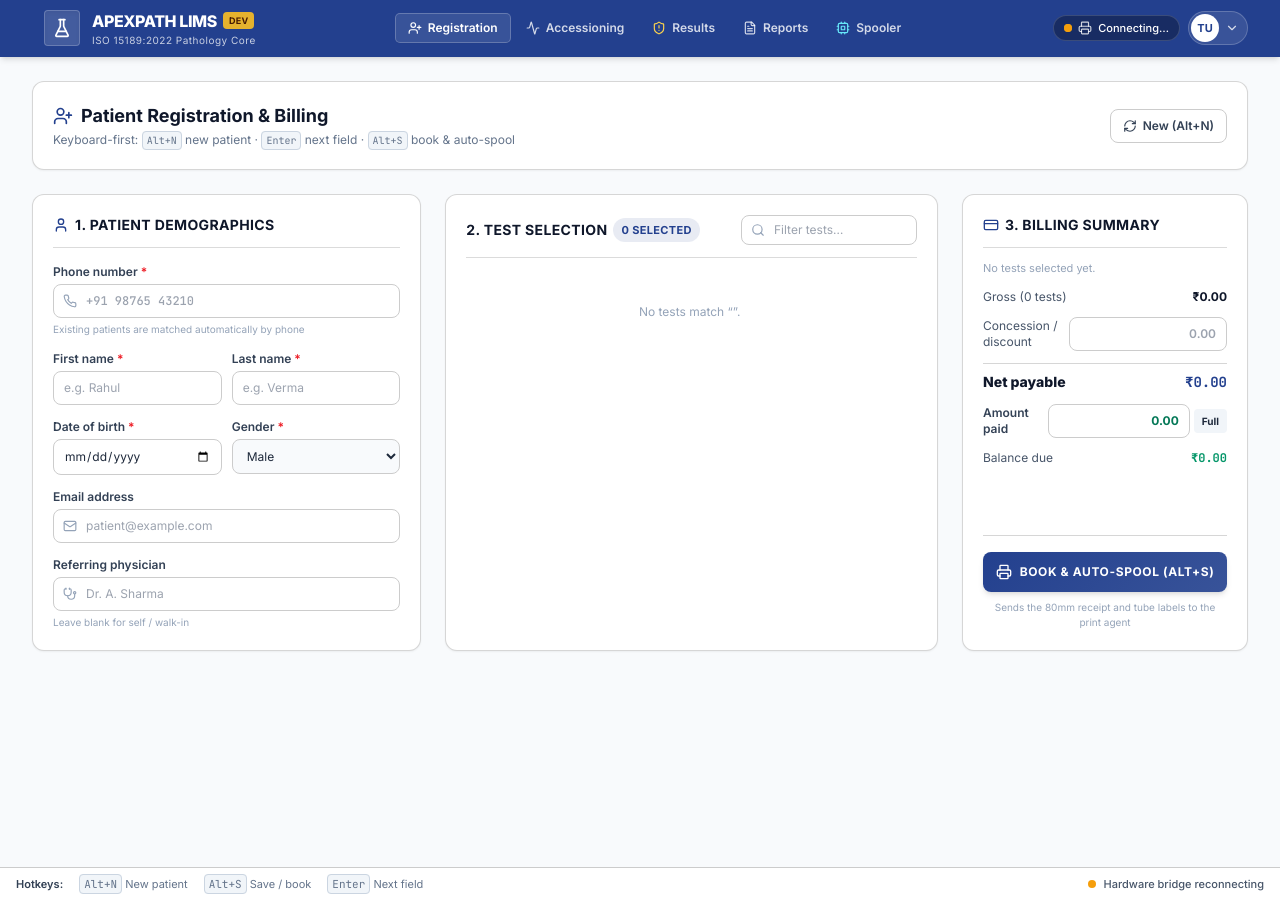
routing and access control › lands the next user on their own workspace after a sign-out (shared workstation)
Click the button with aria-label "Account menu".
click(1218, 28)  # box [1188,11,1248,45]
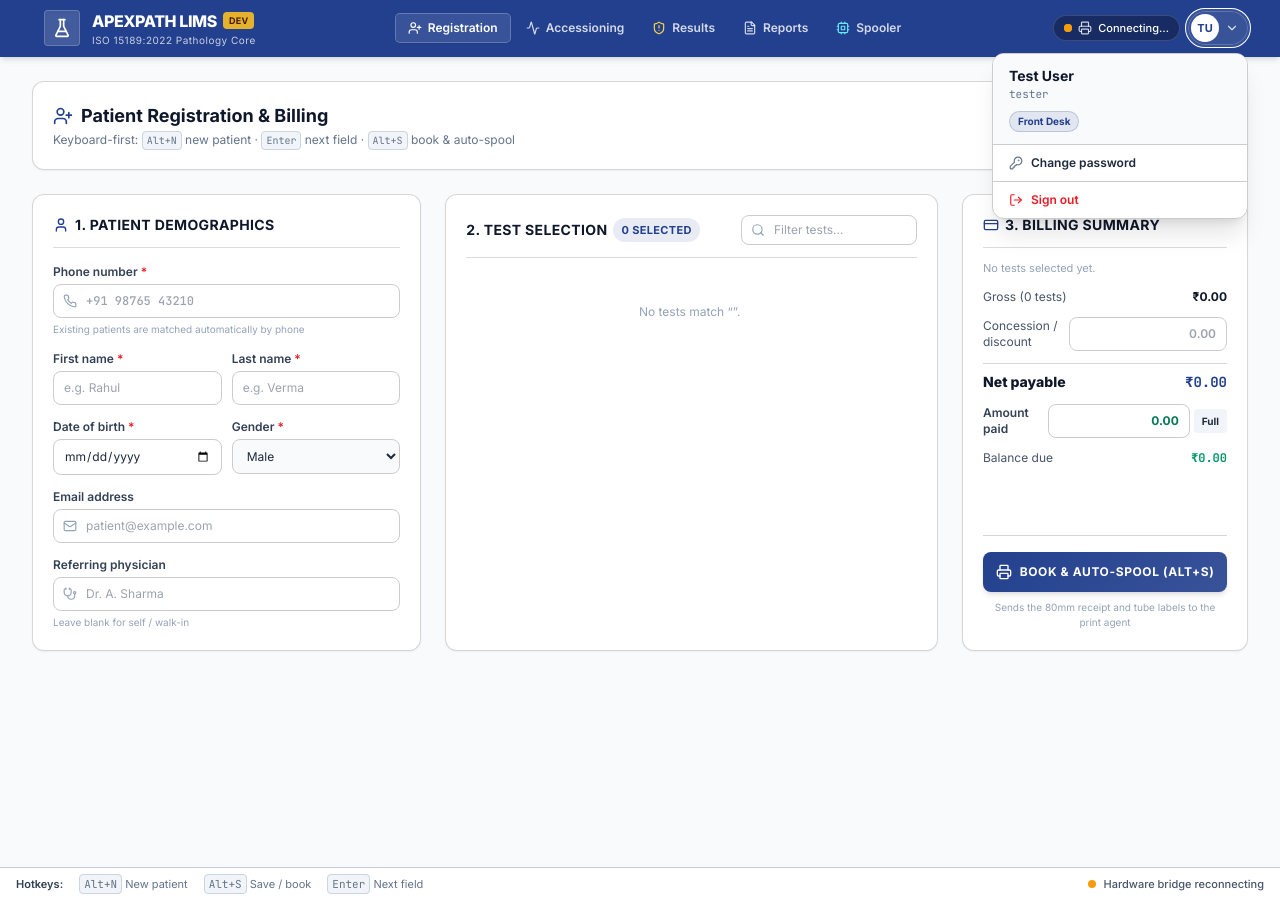
Click the menu item "Sign out".
click(1120, 199)  # box [993,180,1247,218]
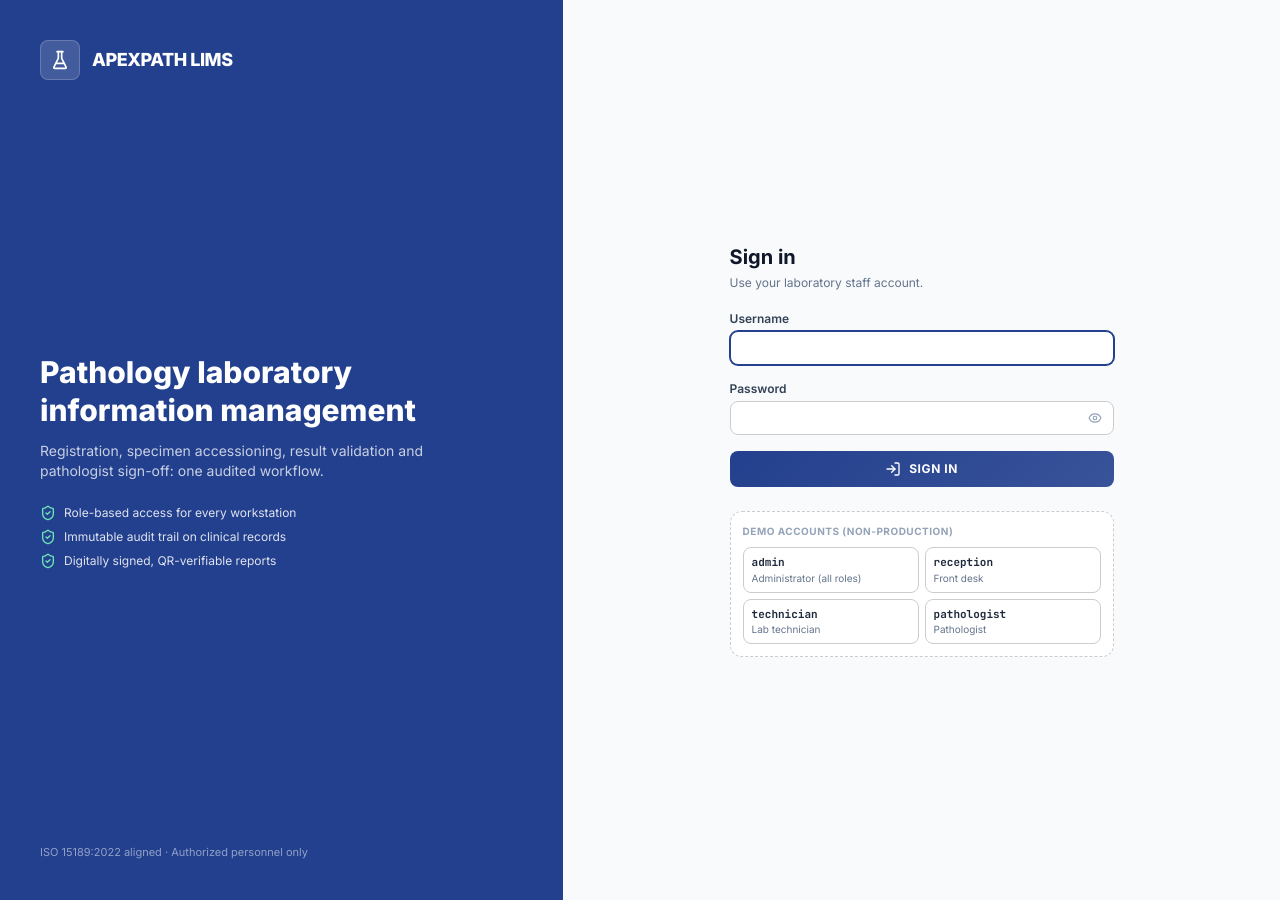
Type "technician" into the field labelled "Username".
click(922, 348); type("technician")  # box [730,331,1114,365]
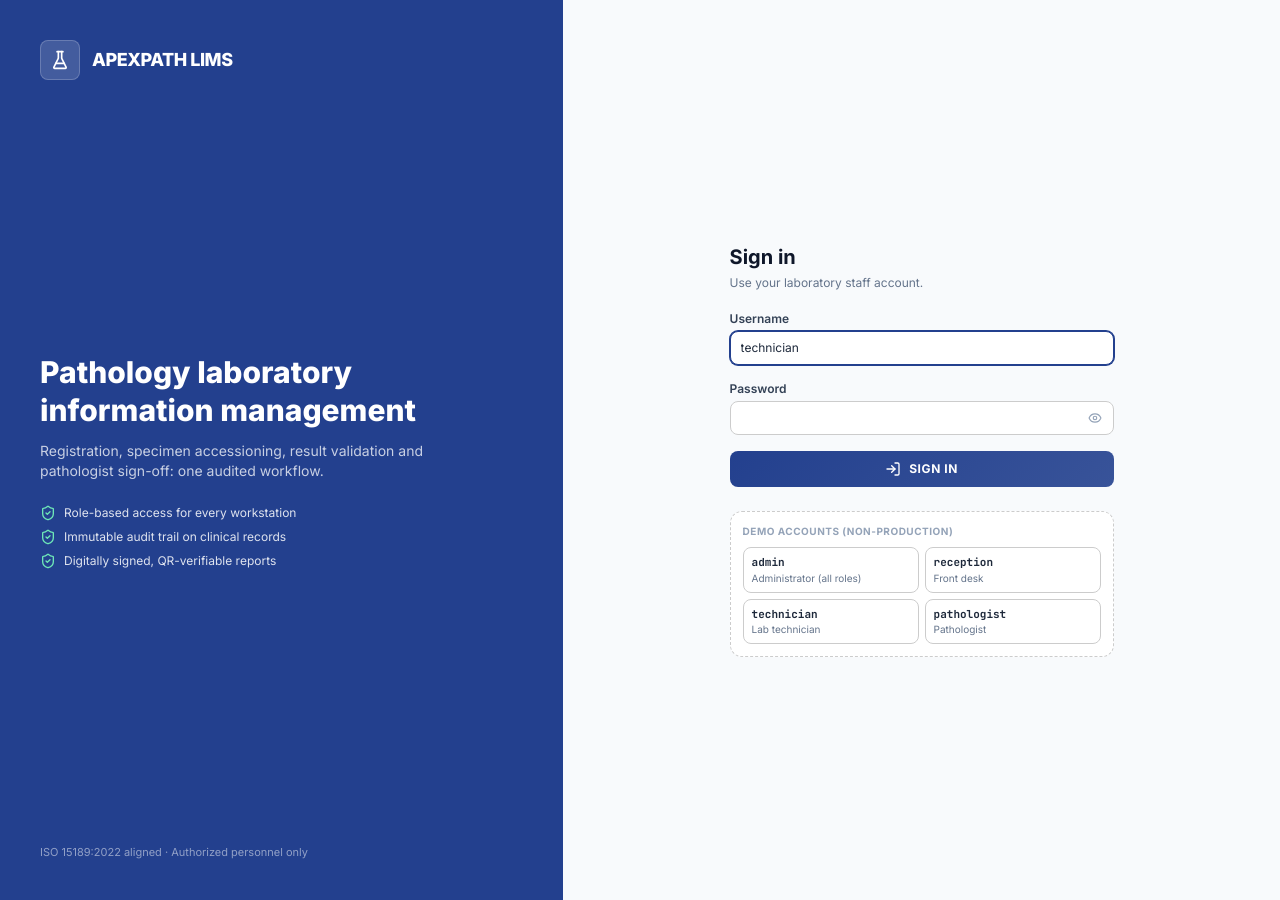
Type "Technician@123" into the password field labelled "Password".
click(922, 418); type("Technician@123")  # box [730,401,1114,435]
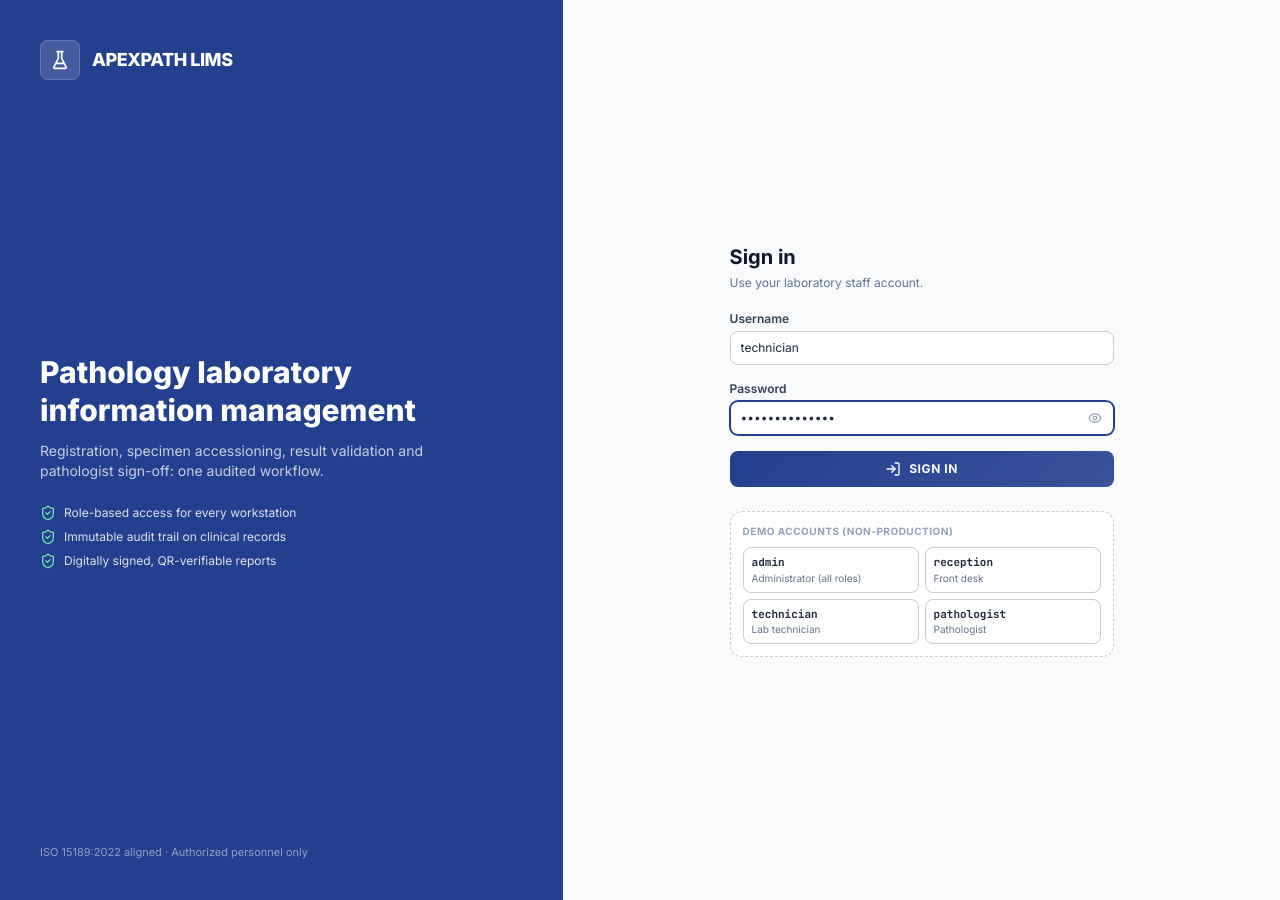
Click the button "Sign in".
click(922, 469)  # box [730,451,1114,487]
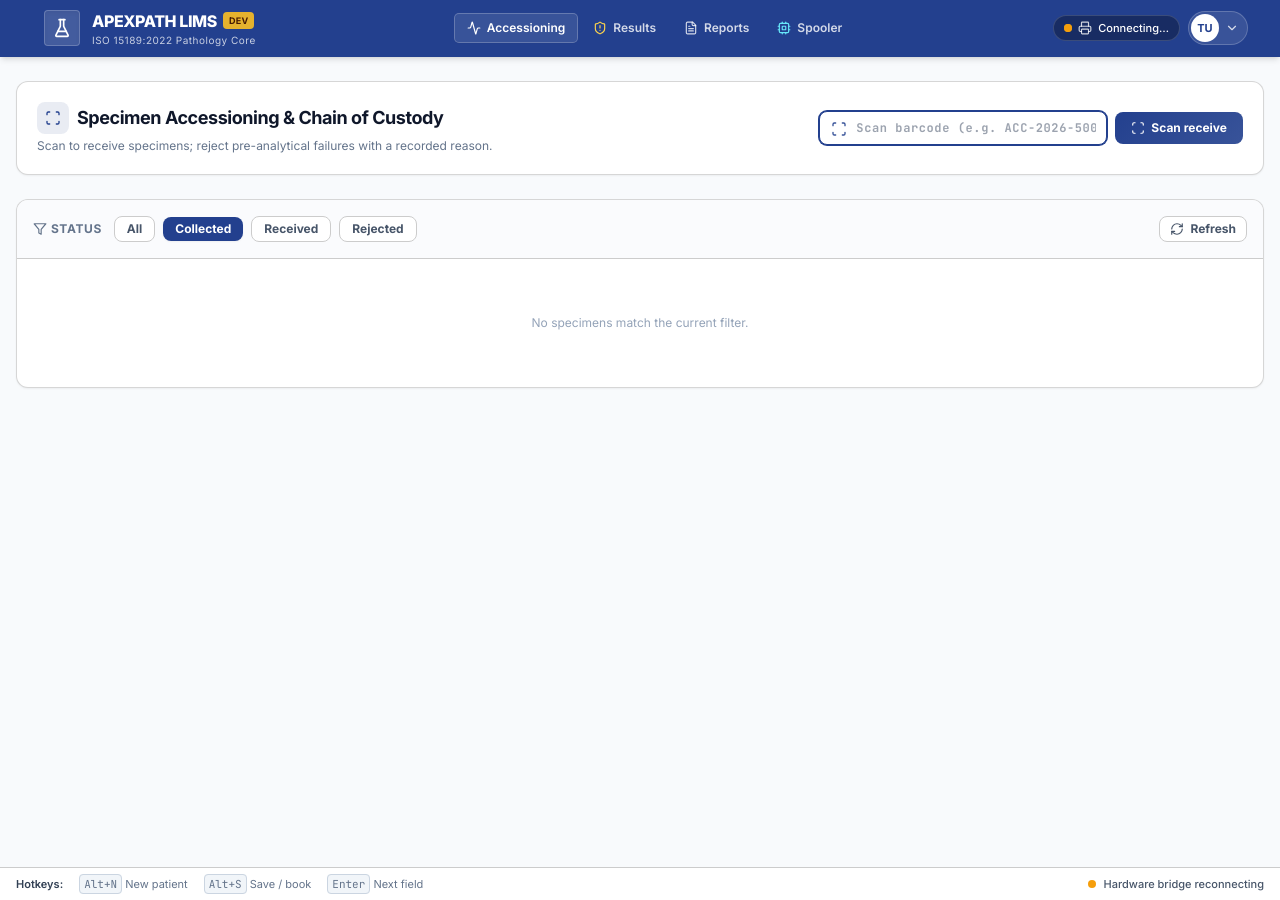
expect the heading "Specimen Accessioning & Chain of Custody" is shown: met, box [77,104,444,132]
